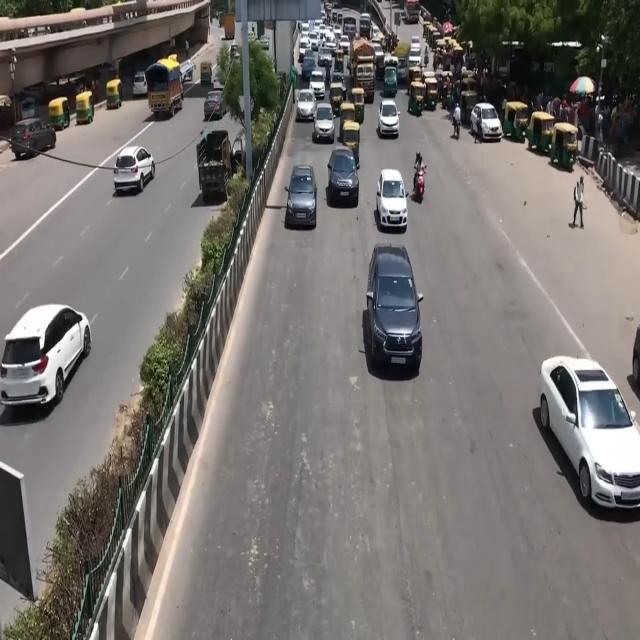auto: (552, 121, 580, 170), (527, 111, 555, 156), (503, 100, 529, 142), (341, 120, 361, 164), (48, 97, 70, 132), (460, 86, 479, 124), (329, 81, 347, 119), (75, 90, 94, 125), (408, 80, 426, 116), (339, 100, 357, 136), (423, 74, 439, 110), (350, 87, 365, 124), (106, 79, 122, 111), (200, 60, 212, 86)
bike-auto: (572, 175, 585, 229), (415, 165, 428, 209), (416, 165, 426, 200), (424, 51, 428, 67)
